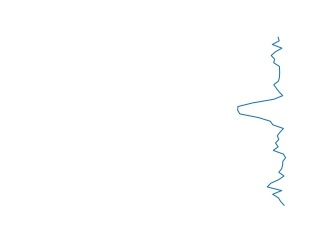interdistributaryEstuary: (232, 37, 293, 206)
